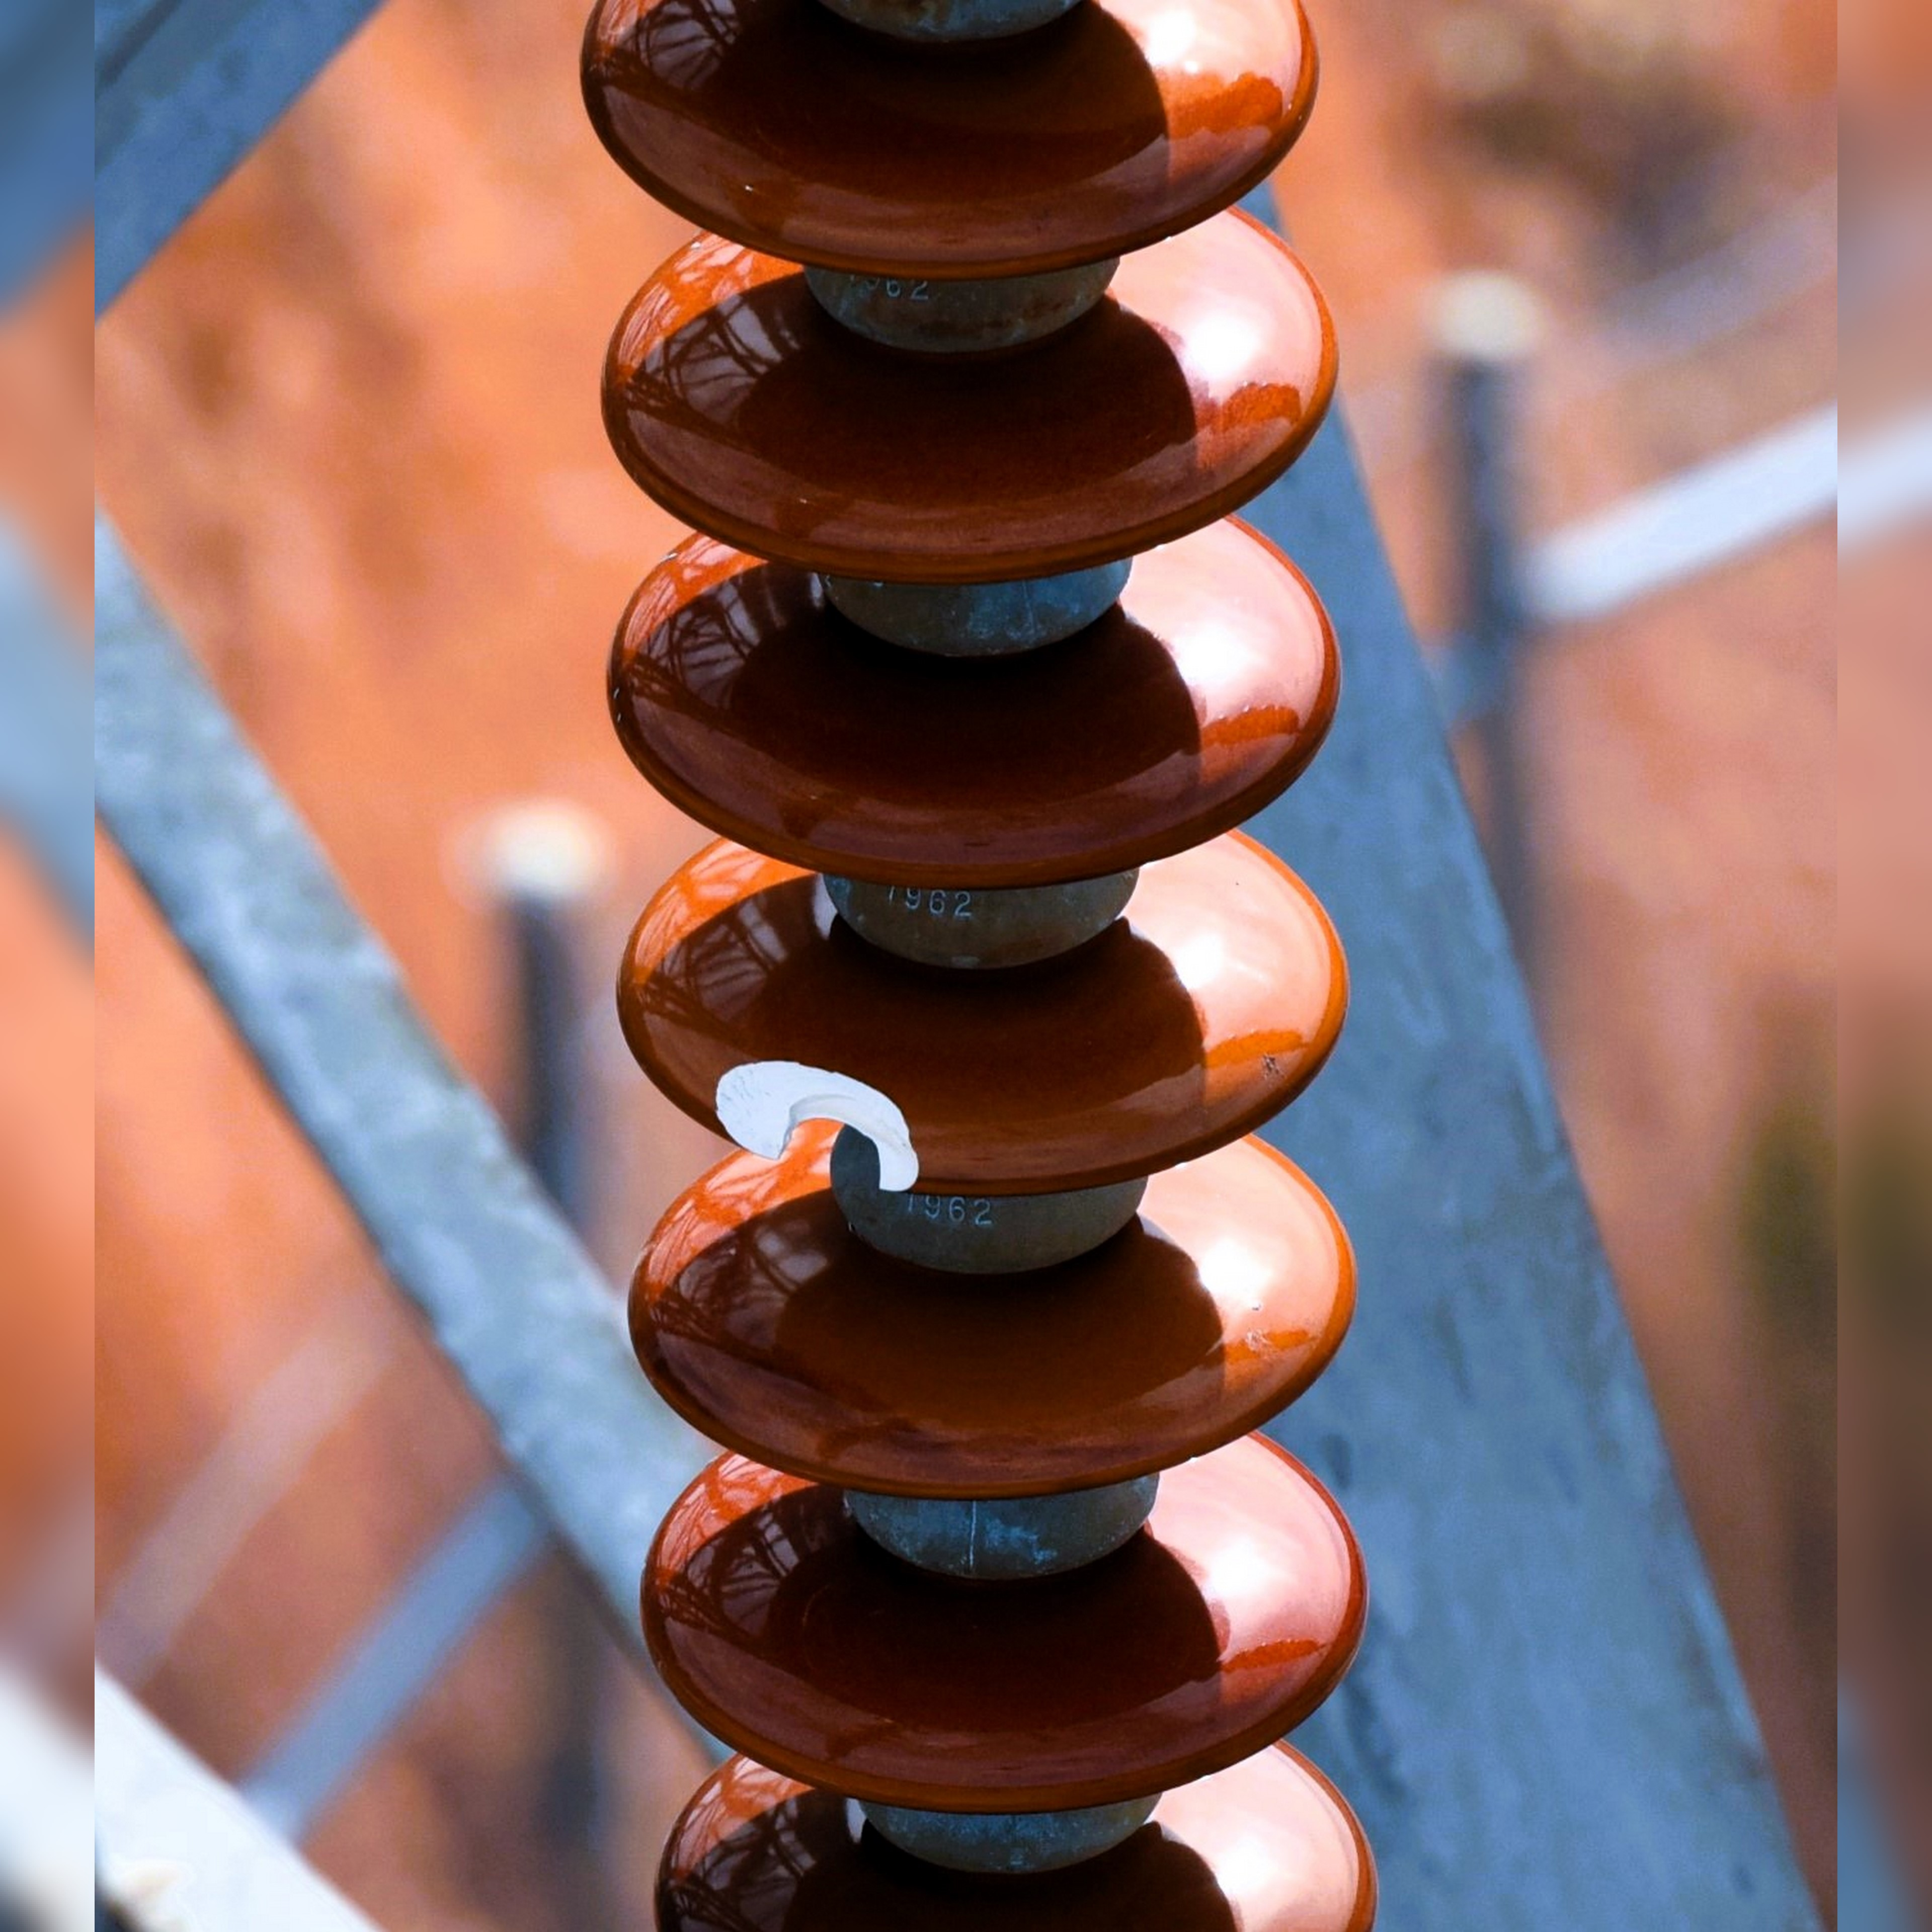insulator breakage: (607, 809, 1357, 1230)
